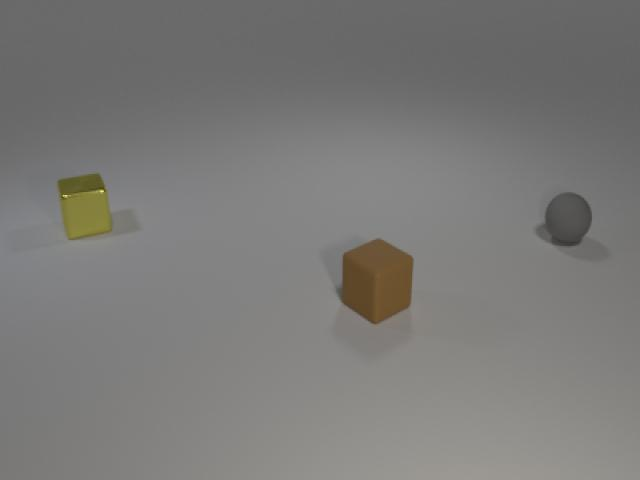round ball: (540, 186, 596, 251)
